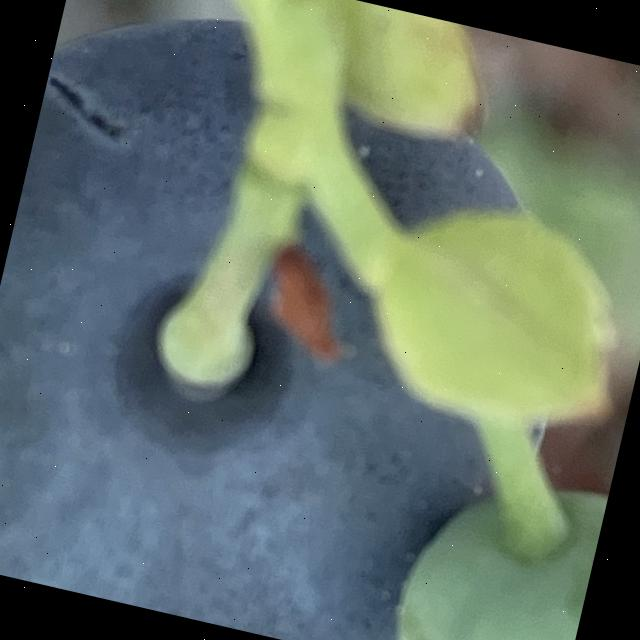Blueberries: (0, 0, 640, 640), (384, 457, 607, 640)
